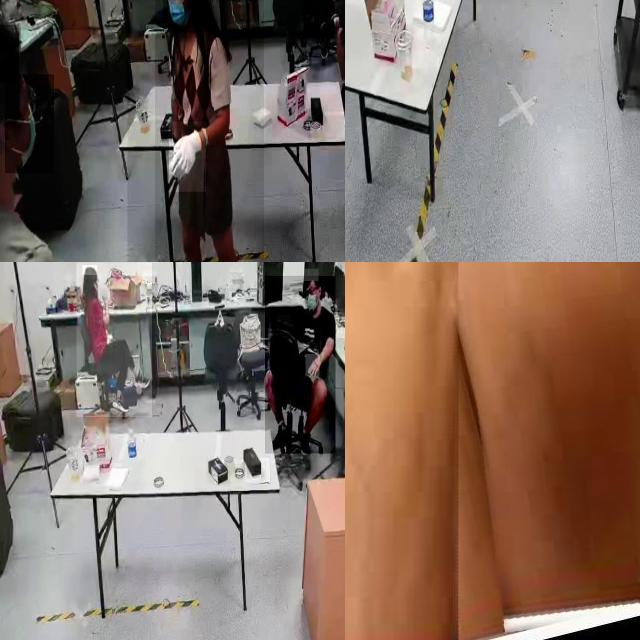Barefoots: (417, 262, 640, 635), (345, 262, 458, 639)
face_mask: (5, 75, 54, 173), (163, 0, 198, 32), (305, 284, 317, 312)
hand_glove: (169, 121, 207, 192)
hand_noglove: (306, 354, 320, 377), (102, 297, 108, 308)
head_nohelmet: (0, 24, 19, 83), (304, 269, 319, 282), (82, 265, 98, 276)
person: (0, 30, 127, 262), (155, 0, 264, 262), (265, 276, 336, 454), (76, 262, 152, 418), (303, 0, 334, 39)
shoes: (132, 364, 151, 390), (111, 389, 129, 415)
